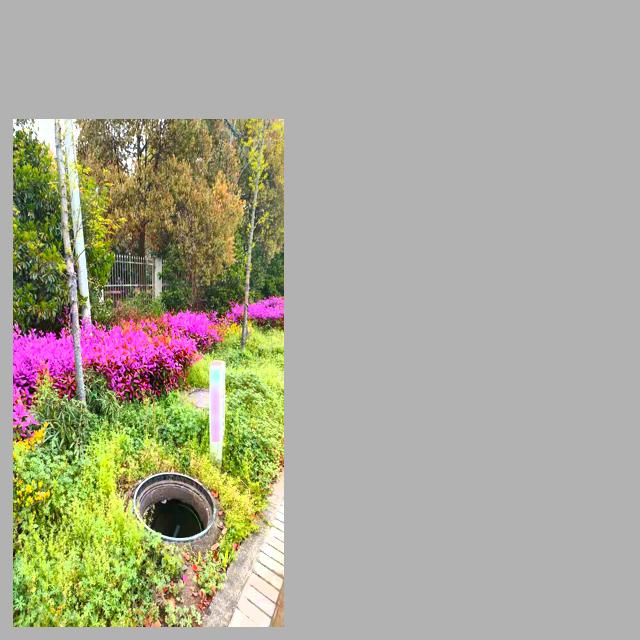lose: (133, 469, 218, 542)
